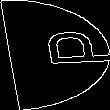P_W: (6, 34, 104, 76)
